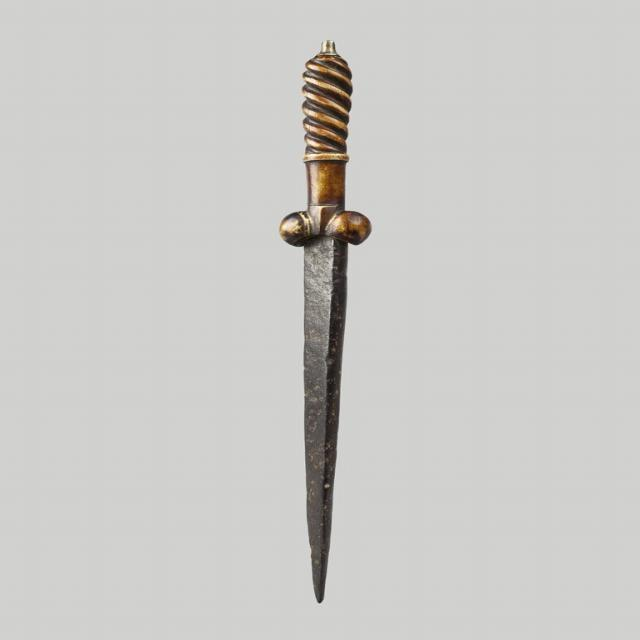short sword: (256, 25, 401, 607)
